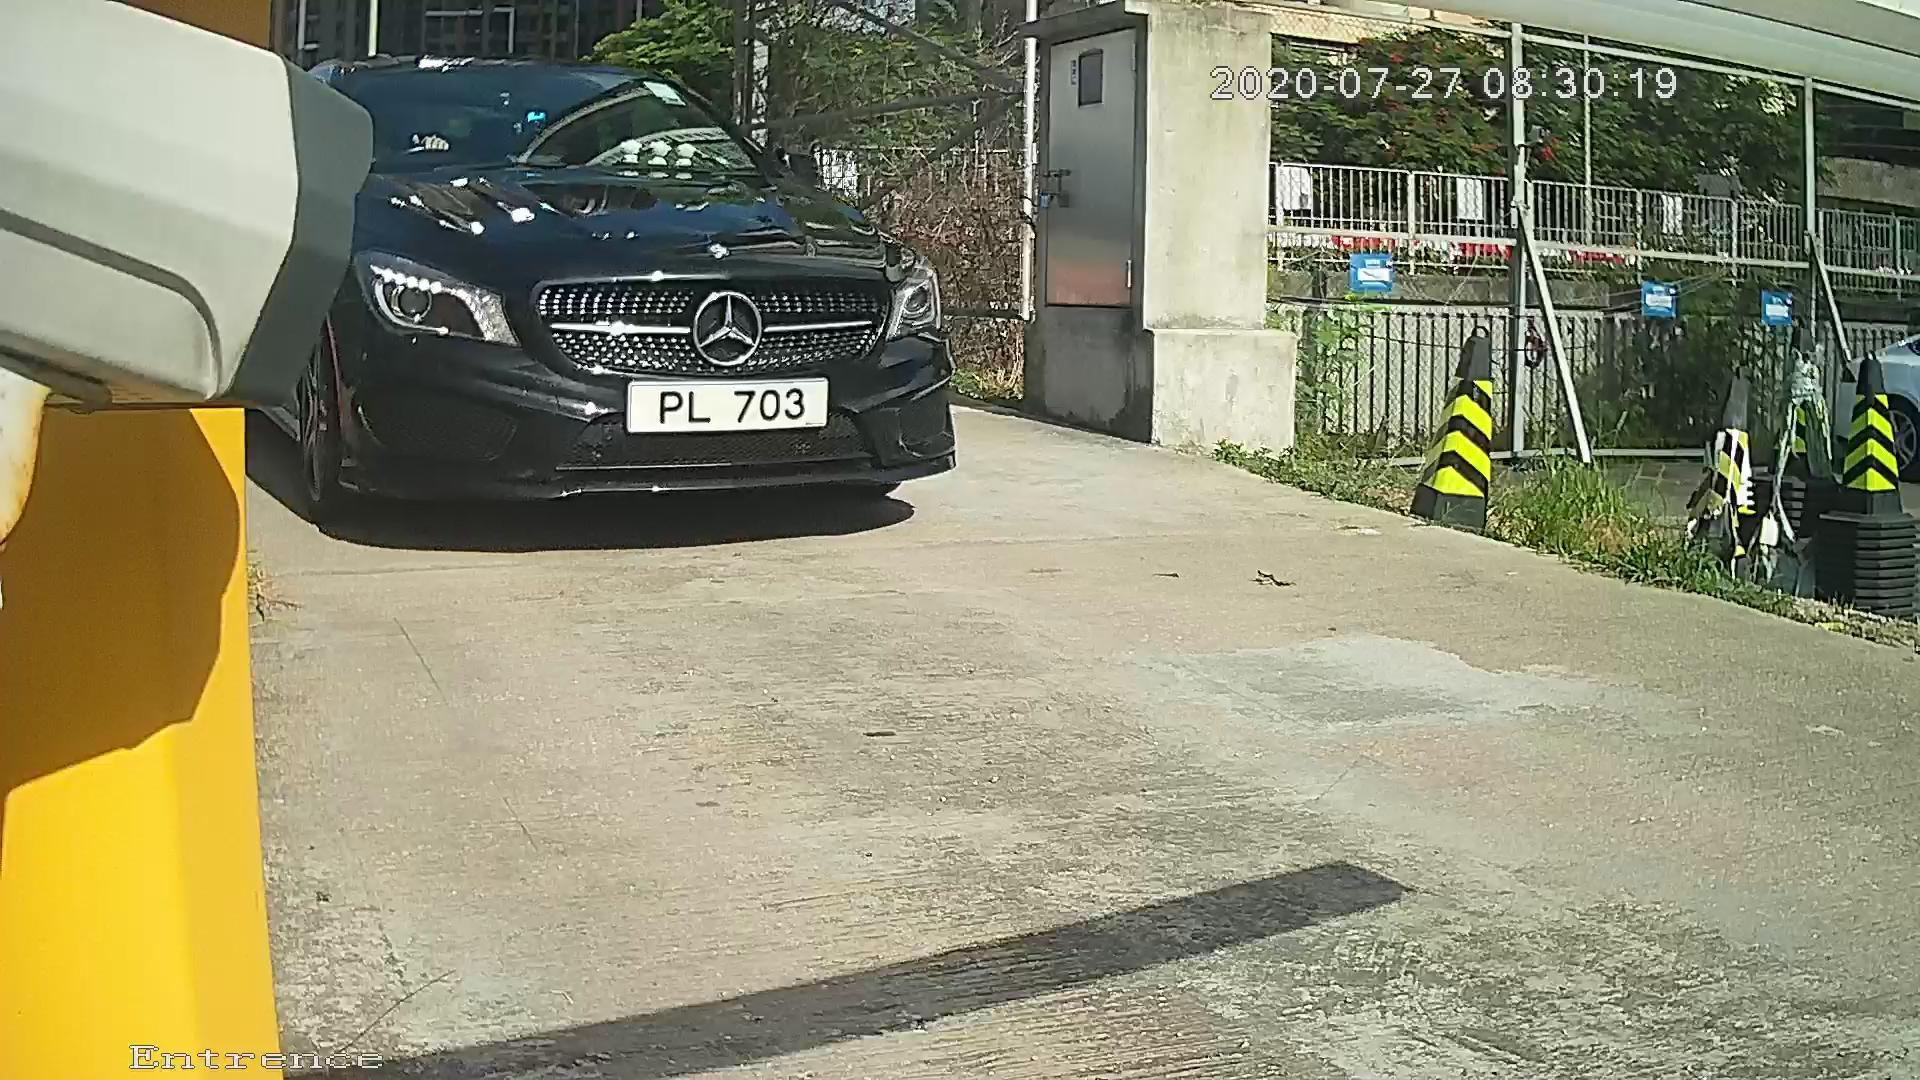License Plate: (601, 357, 841, 439)
